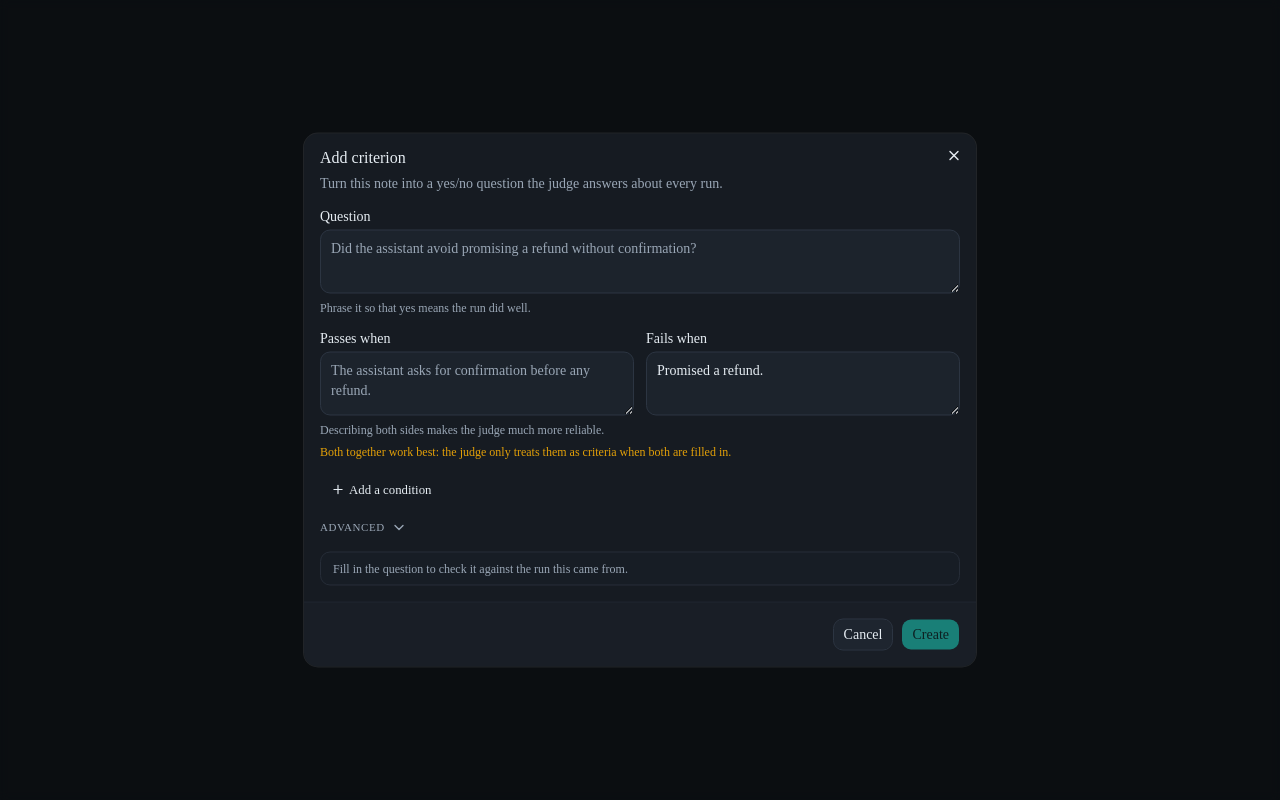
Test: CriterionDialog promoted from a fix draft › renders the check result 0
The width and height of the screenshot is (1280, 800).
Replace the text in the text box labelled "Question" with "Q?". click: {"x": 640, "y": 262}
box: [320,230,960,294]
Wait 800 ms
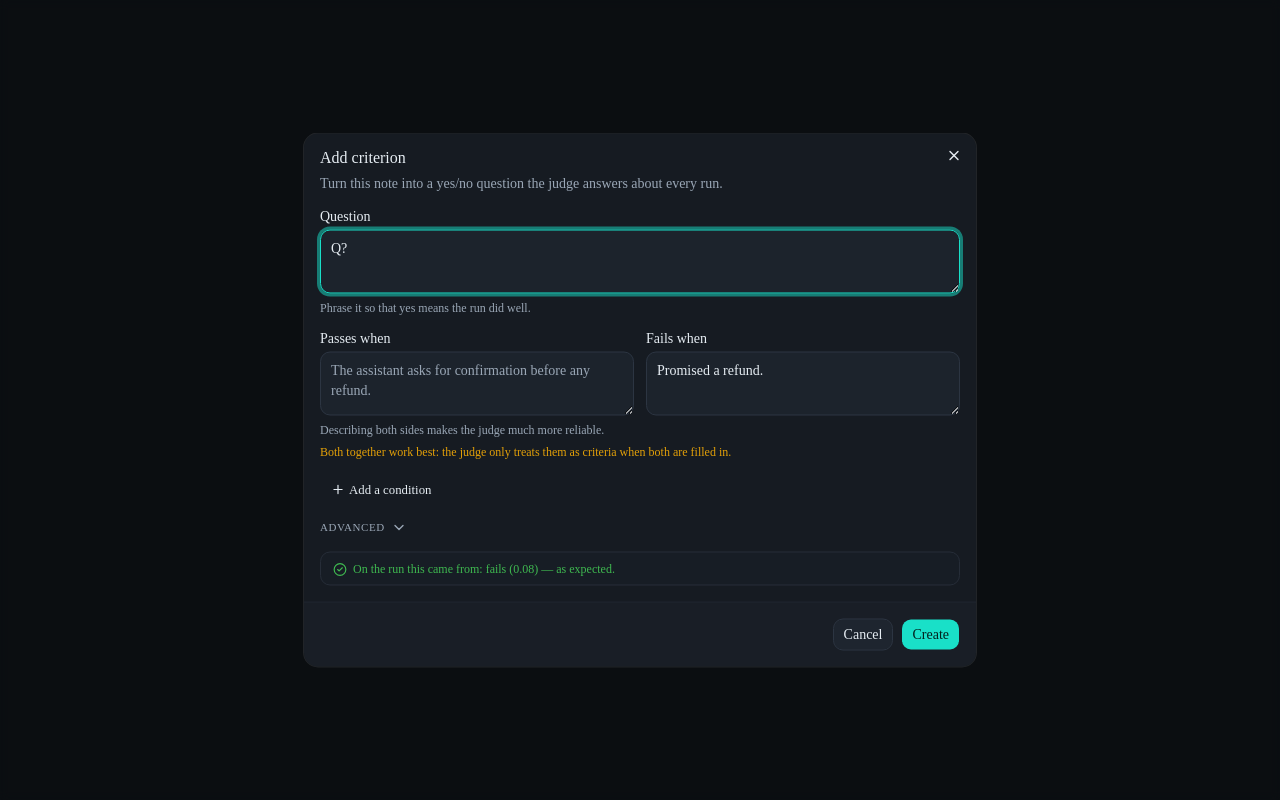
Now the text "On the run this came from: fails (0.08) — as expected." is shown, box [333,562,615,576]
